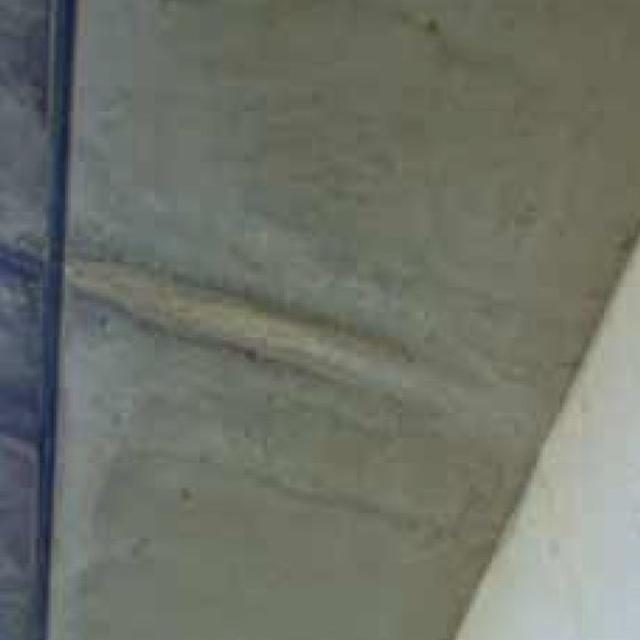freelime: (73, 262, 411, 427)
